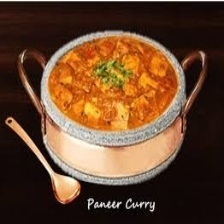sabzi: (48, 34, 183, 134)
